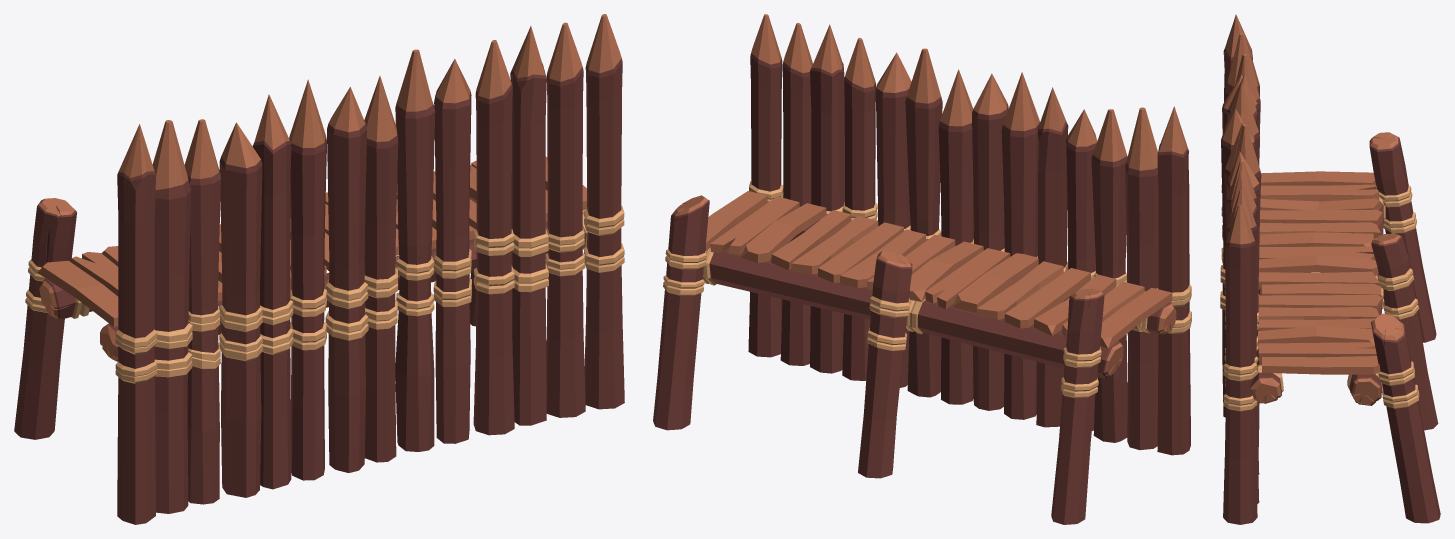
Rendered from Wooden Palisade 01.fbx.
3 views of the same model, side by side, from view 1: azimuth 30°, elevation 25°; view 2: azimuth 150°, elevation 25°; view 3: azimuth 270°, elevation 25° (orthographic). The views are drawn at different scales.
Parts seen in each view (by area): view 1: Wooden Palisade 01; view 2: Wooden Palisade 01; view 3: Wooden Palisade 01.
Boxes of the visible parts, <box> form: Wooden Palisade 01: <box>14,14,624,524</box>; Wooden Palisade 01: <box>653,14,1191,524</box>; Wooden Palisade 01: <box>1220,14,1440,524</box>.
Size of the model in its own units: 414 by 309 by 193.
